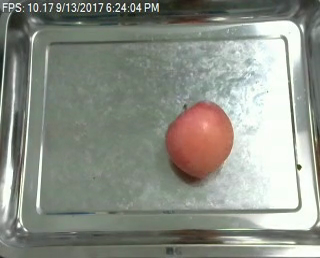Apple: (162, 98, 237, 181)
